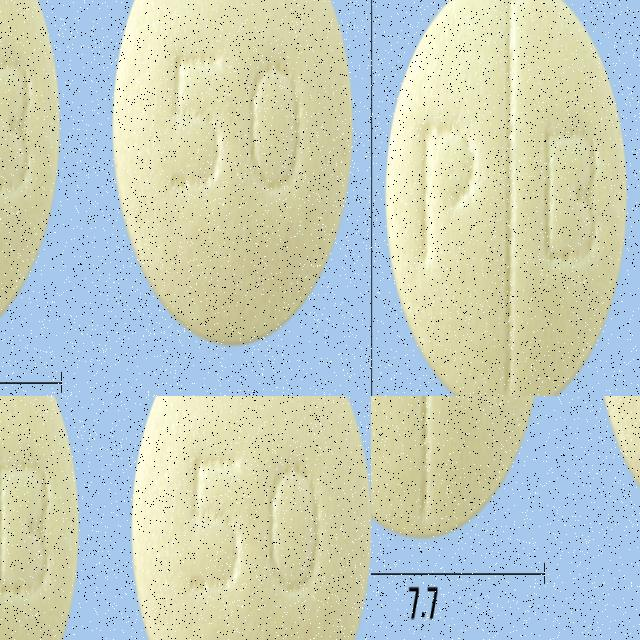Azabio: (371, 396, 545, 541)
Azabio - 25mg: (380, 0, 635, 396)
Ciroctan - 500mg: (117, 396, 370, 640), (0, 396, 87, 640)
Clomycin - 500mg: (88, 0, 371, 137), (0, 93, 107, 347)
